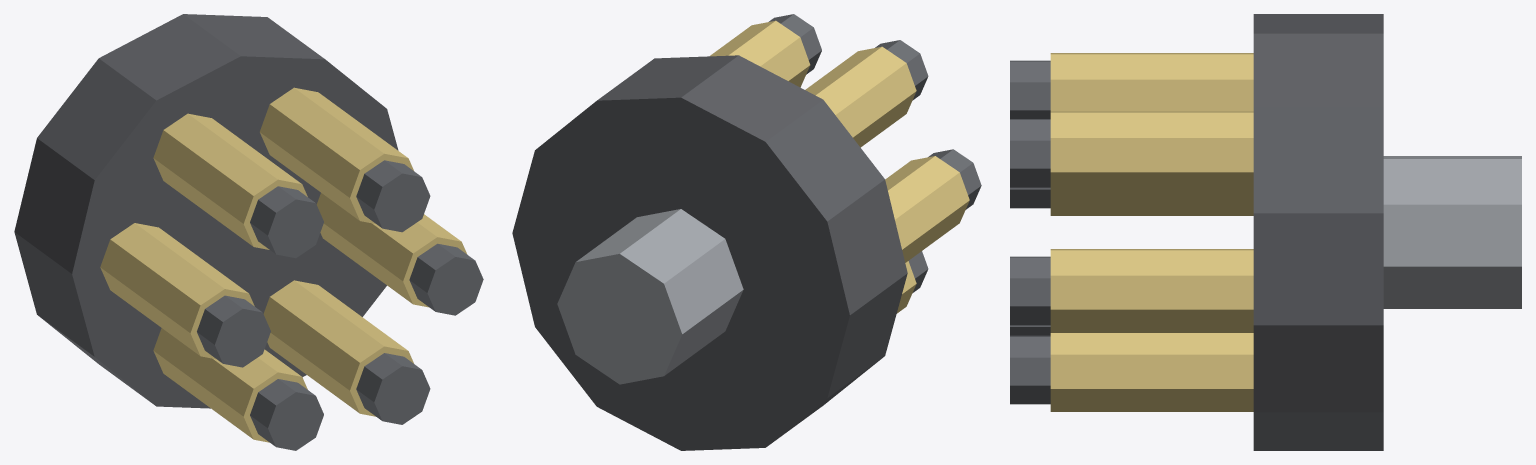
The model's file is att_speedloader.fbx.
The picture shows the model from 3 angles, left to right: view 1: azimuth 30°, elevation 25°; view 2: azimuth 150°, elevation 25°; view 3: azimuth 270°, elevation 25°; orthographic projection. The views are drawn at different scales.
Parts seen in each view (by area): view 1: att_speedloader; view 2: att_speedloader; view 3: att_speedloader.
Part boxes in pixels (x1,y1,x2,y2): att_speedloader: [14, 14, 483, 450]; att_speedloader: [512, 14, 981, 450]; att_speedloader: [1010, 14, 1521, 450].
Size of the model in its own units: 0.054 by 0.054 by 0.063.
